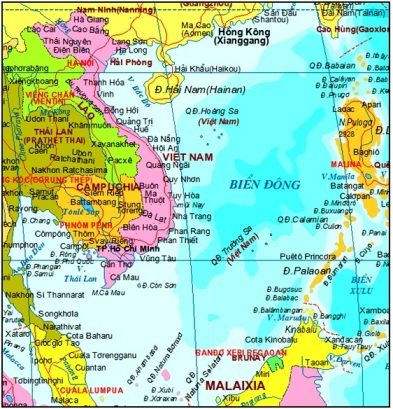Island: (210, 224, 277, 266), (187, 103, 241, 147)
